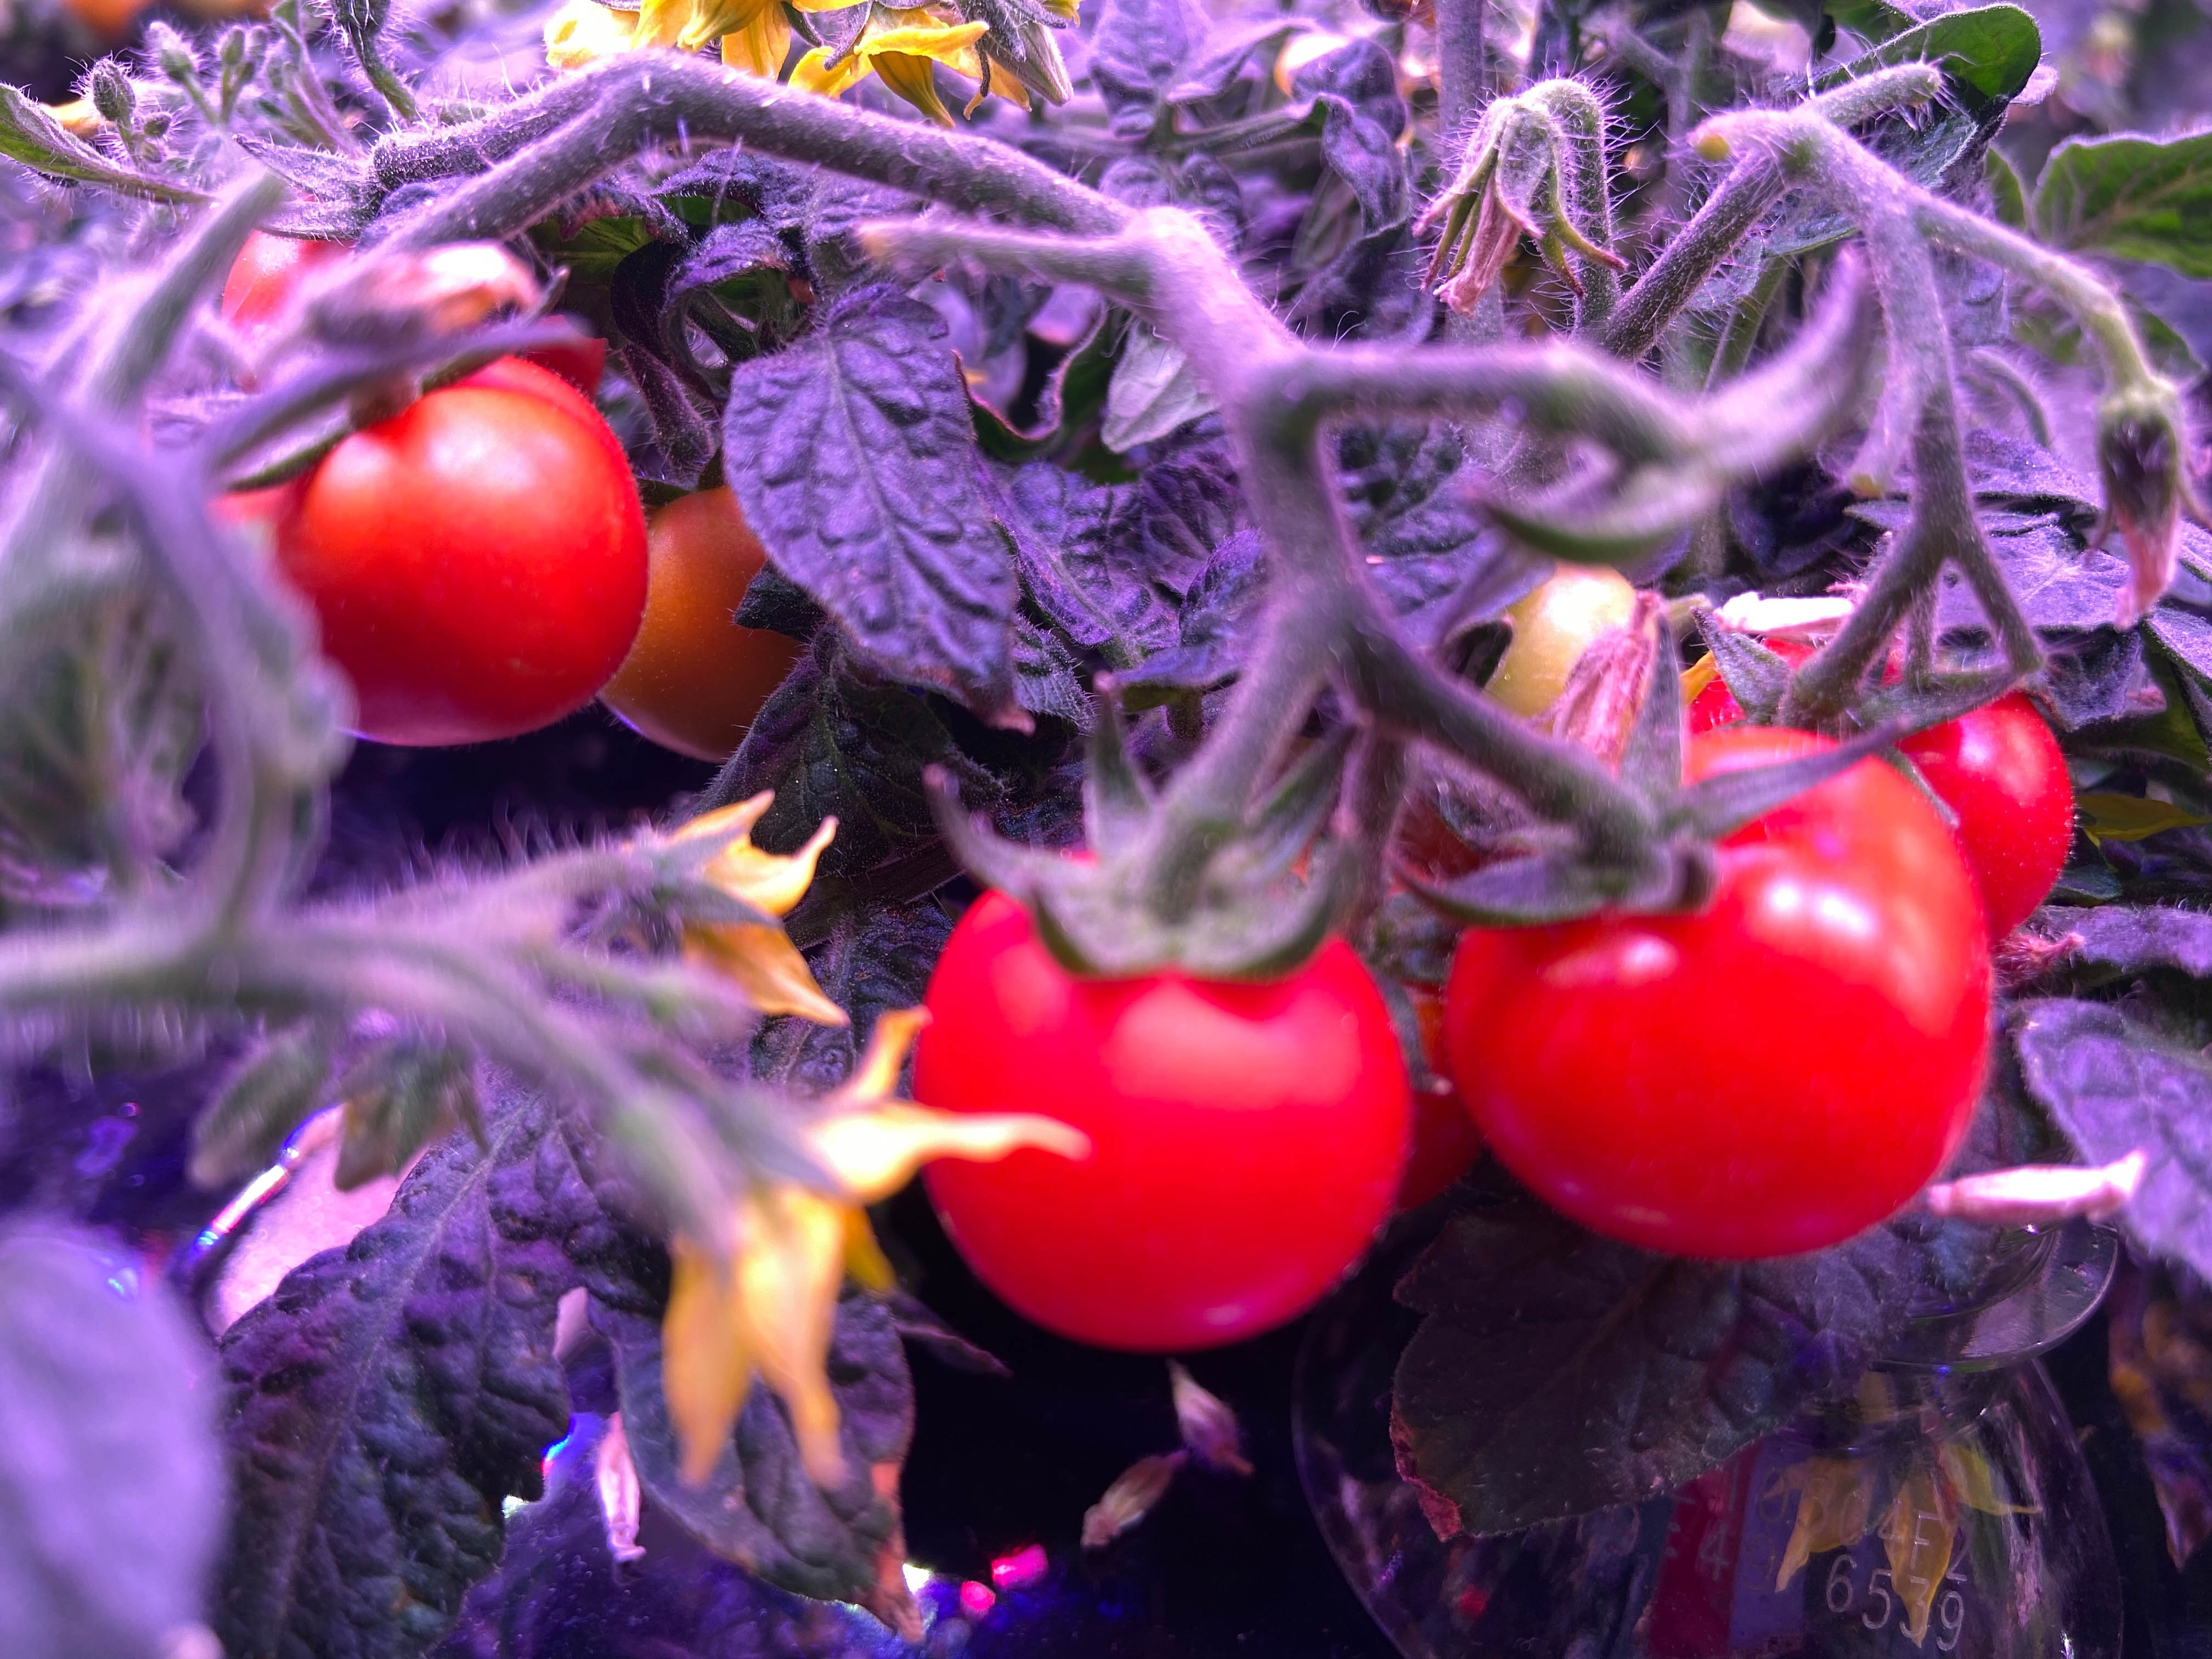green: (1404, 516, 1677, 890)
red: (1439, 721, 1991, 1262), (906, 857, 1418, 1356), (270, 356, 648, 748), (1712, 624, 2078, 946), (214, 166, 615, 427), (578, 467, 827, 763), (1266, 28, 1371, 106)
